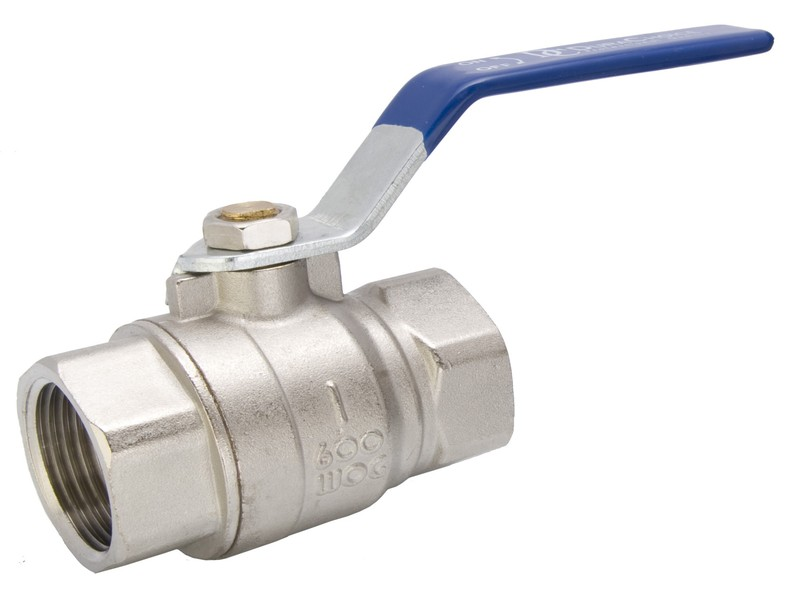valve: (16, 9, 791, 591)
